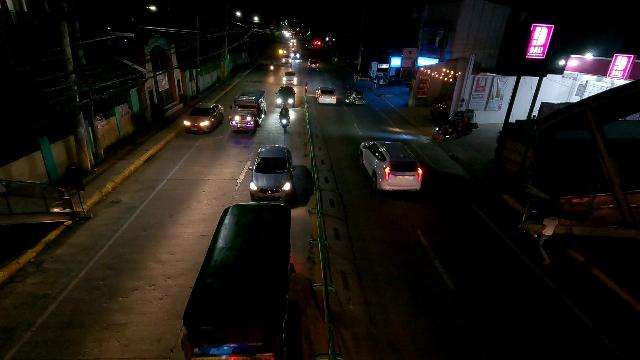car: (359, 138, 422, 194), (249, 145, 296, 204), (182, 102, 225, 134), (275, 85, 297, 108), (315, 86, 338, 106), (281, 71, 298, 86), (306, 59, 320, 70), (280, 53, 293, 64), (289, 50, 301, 59)
jeepney: (175, 201, 299, 360), (228, 89, 269, 134)
motorcycle: (432, 116, 461, 141), (278, 104, 290, 133), (269, 62, 274, 71)
